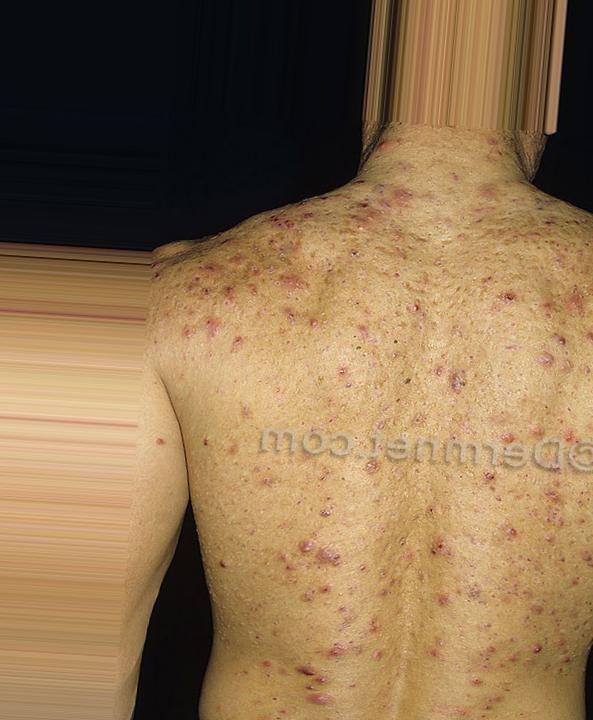Acne: (256, 496, 418, 720), (316, 361, 521, 502), (428, 476, 573, 672), (463, 246, 593, 414), (308, 216, 433, 382), (176, 238, 290, 359)
